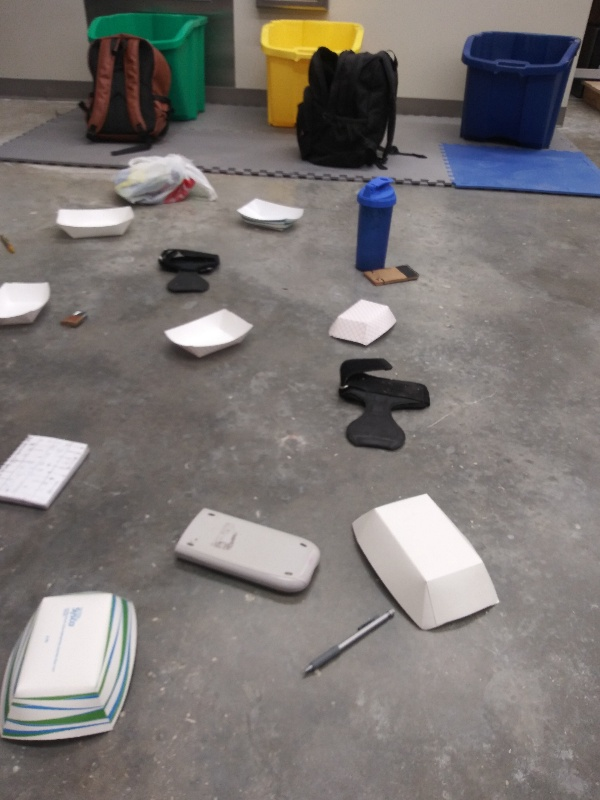plate: (346, 490, 507, 637), (1, 582, 141, 749), (160, 305, 261, 363), (326, 296, 399, 349), (53, 199, 140, 243), (1, 277, 54, 335), (231, 197, 308, 234)
